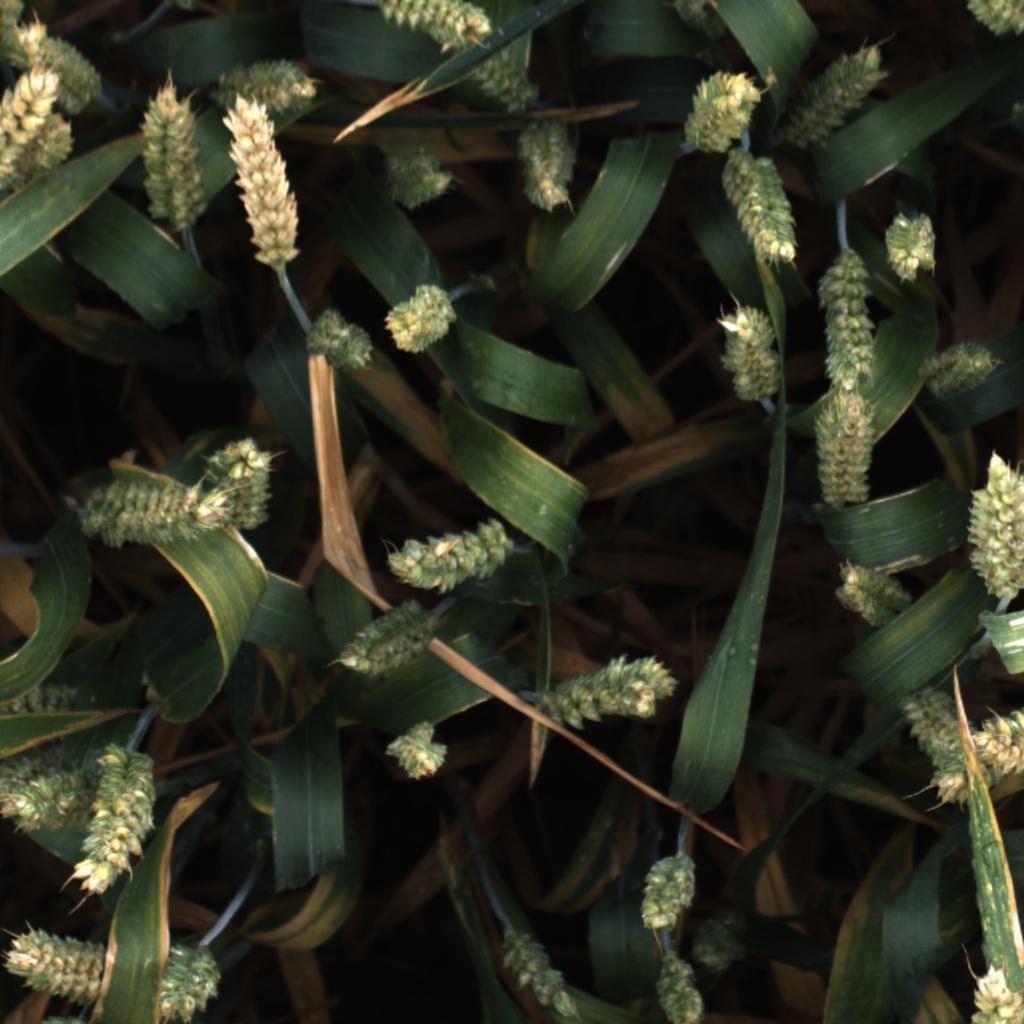0-0: (220, 93, 309, 268), (69, 749, 165, 902), (0, 65, 78, 222), (780, 40, 890, 146), (539, 648, 679, 731), (135, 73, 205, 233), (83, 472, 229, 548), (955, 447, 1024, 604), (0, 0, 103, 103), (377, 520, 516, 593), (721, 155, 800, 268), (326, 596, 434, 678), (814, 253, 876, 395), (0, 923, 106, 999), (811, 383, 875, 508), (498, 929, 584, 1020), (211, 49, 325, 115), (209, 430, 277, 535), (679, 69, 764, 153), (0, 758, 93, 830), (718, 299, 783, 402), (515, 116, 580, 214), (913, 334, 1000, 407), (150, 942, 225, 1021), (383, 275, 454, 355), (628, 853, 699, 931), (308, 296, 377, 375), (372, 0, 490, 46), (897, 686, 970, 760), (830, 555, 905, 627), (380, 147, 452, 215), (4, 662, 76, 730), (879, 211, 946, 283), (384, 719, 452, 784), (483, 44, 545, 113), (964, 701, 1024, 771), (920, 757, 978, 822), (689, 918, 752, 970), (657, 958, 704, 1024), (937, 0, 1024, 35), (638, 0, 729, 32)
